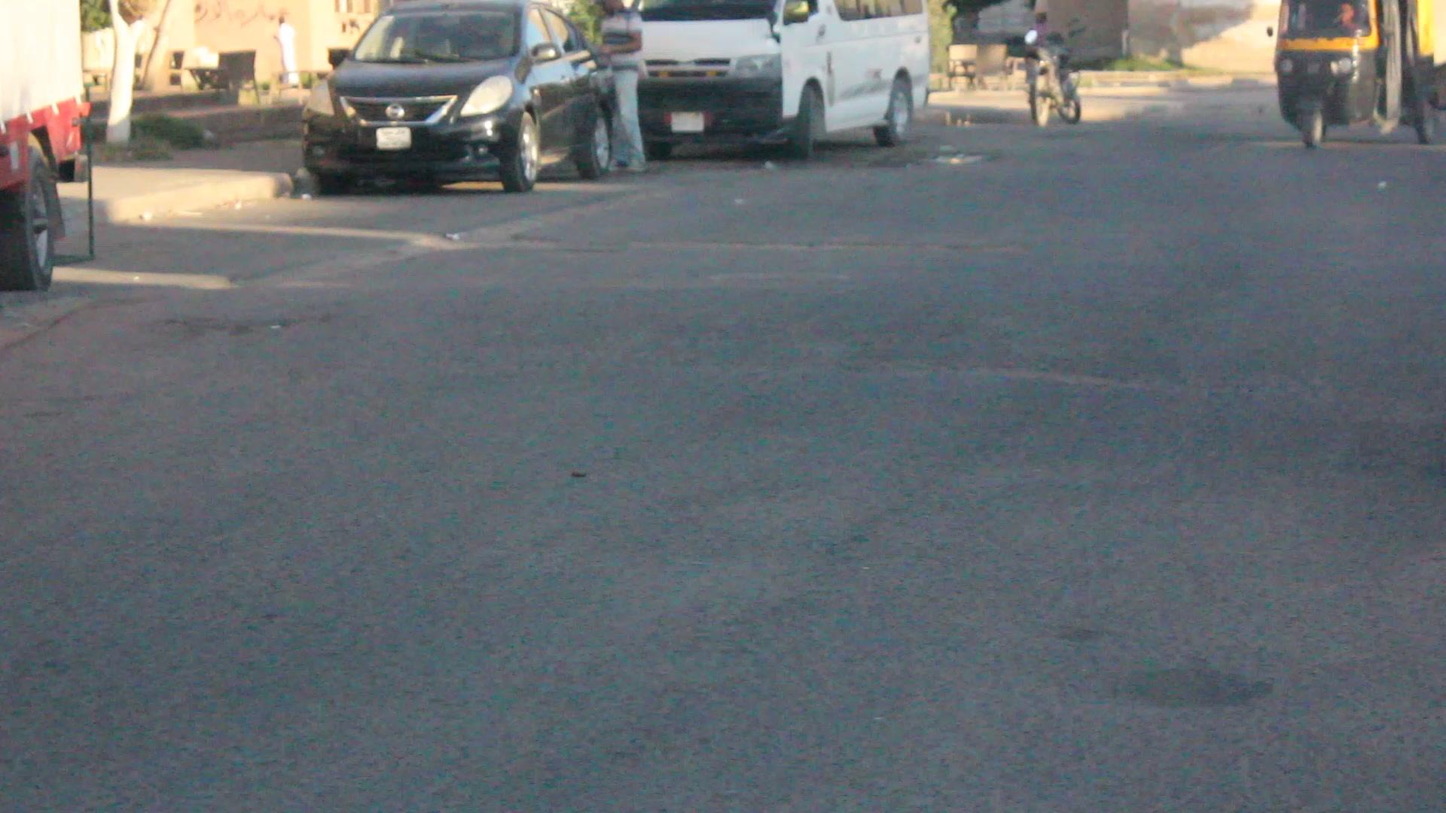Bump: (203, 292, 1446, 414)
